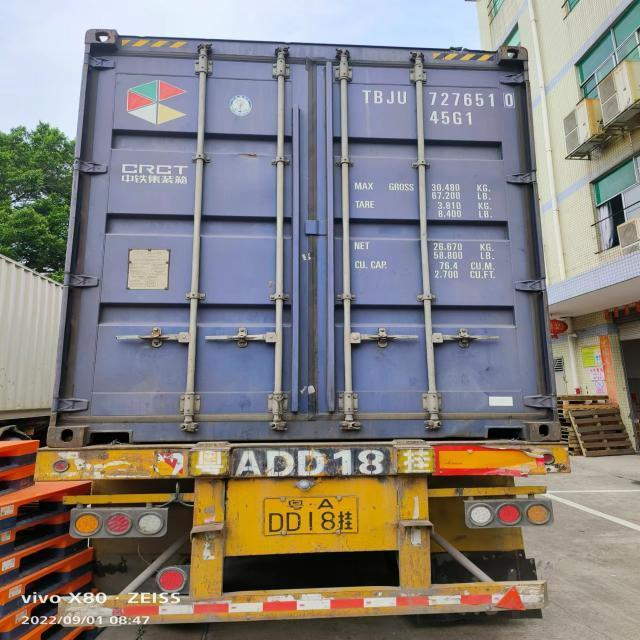ISO: (434, 112, 475, 128)
container_number: (366, 88, 512, 110)
